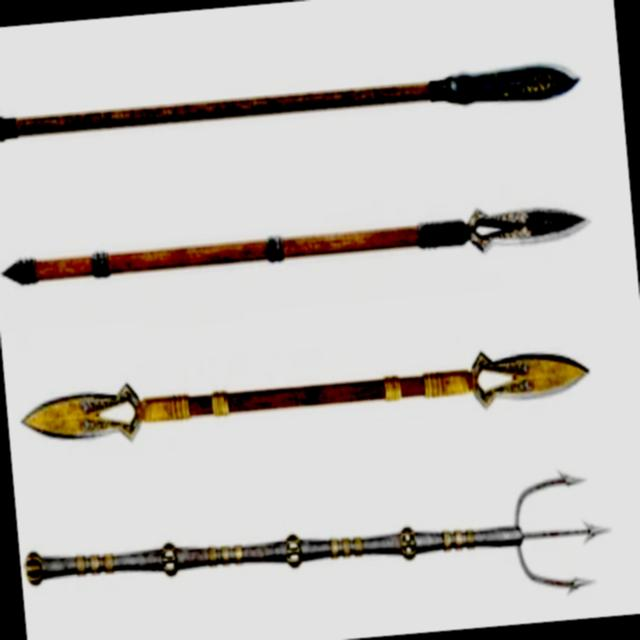spear: (18, 447, 619, 640), (11, 328, 608, 468), (0, 42, 587, 170), (0, 194, 593, 306)
